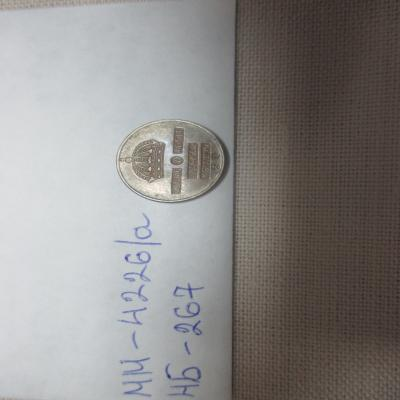numismatics: (117, 120, 224, 202)
